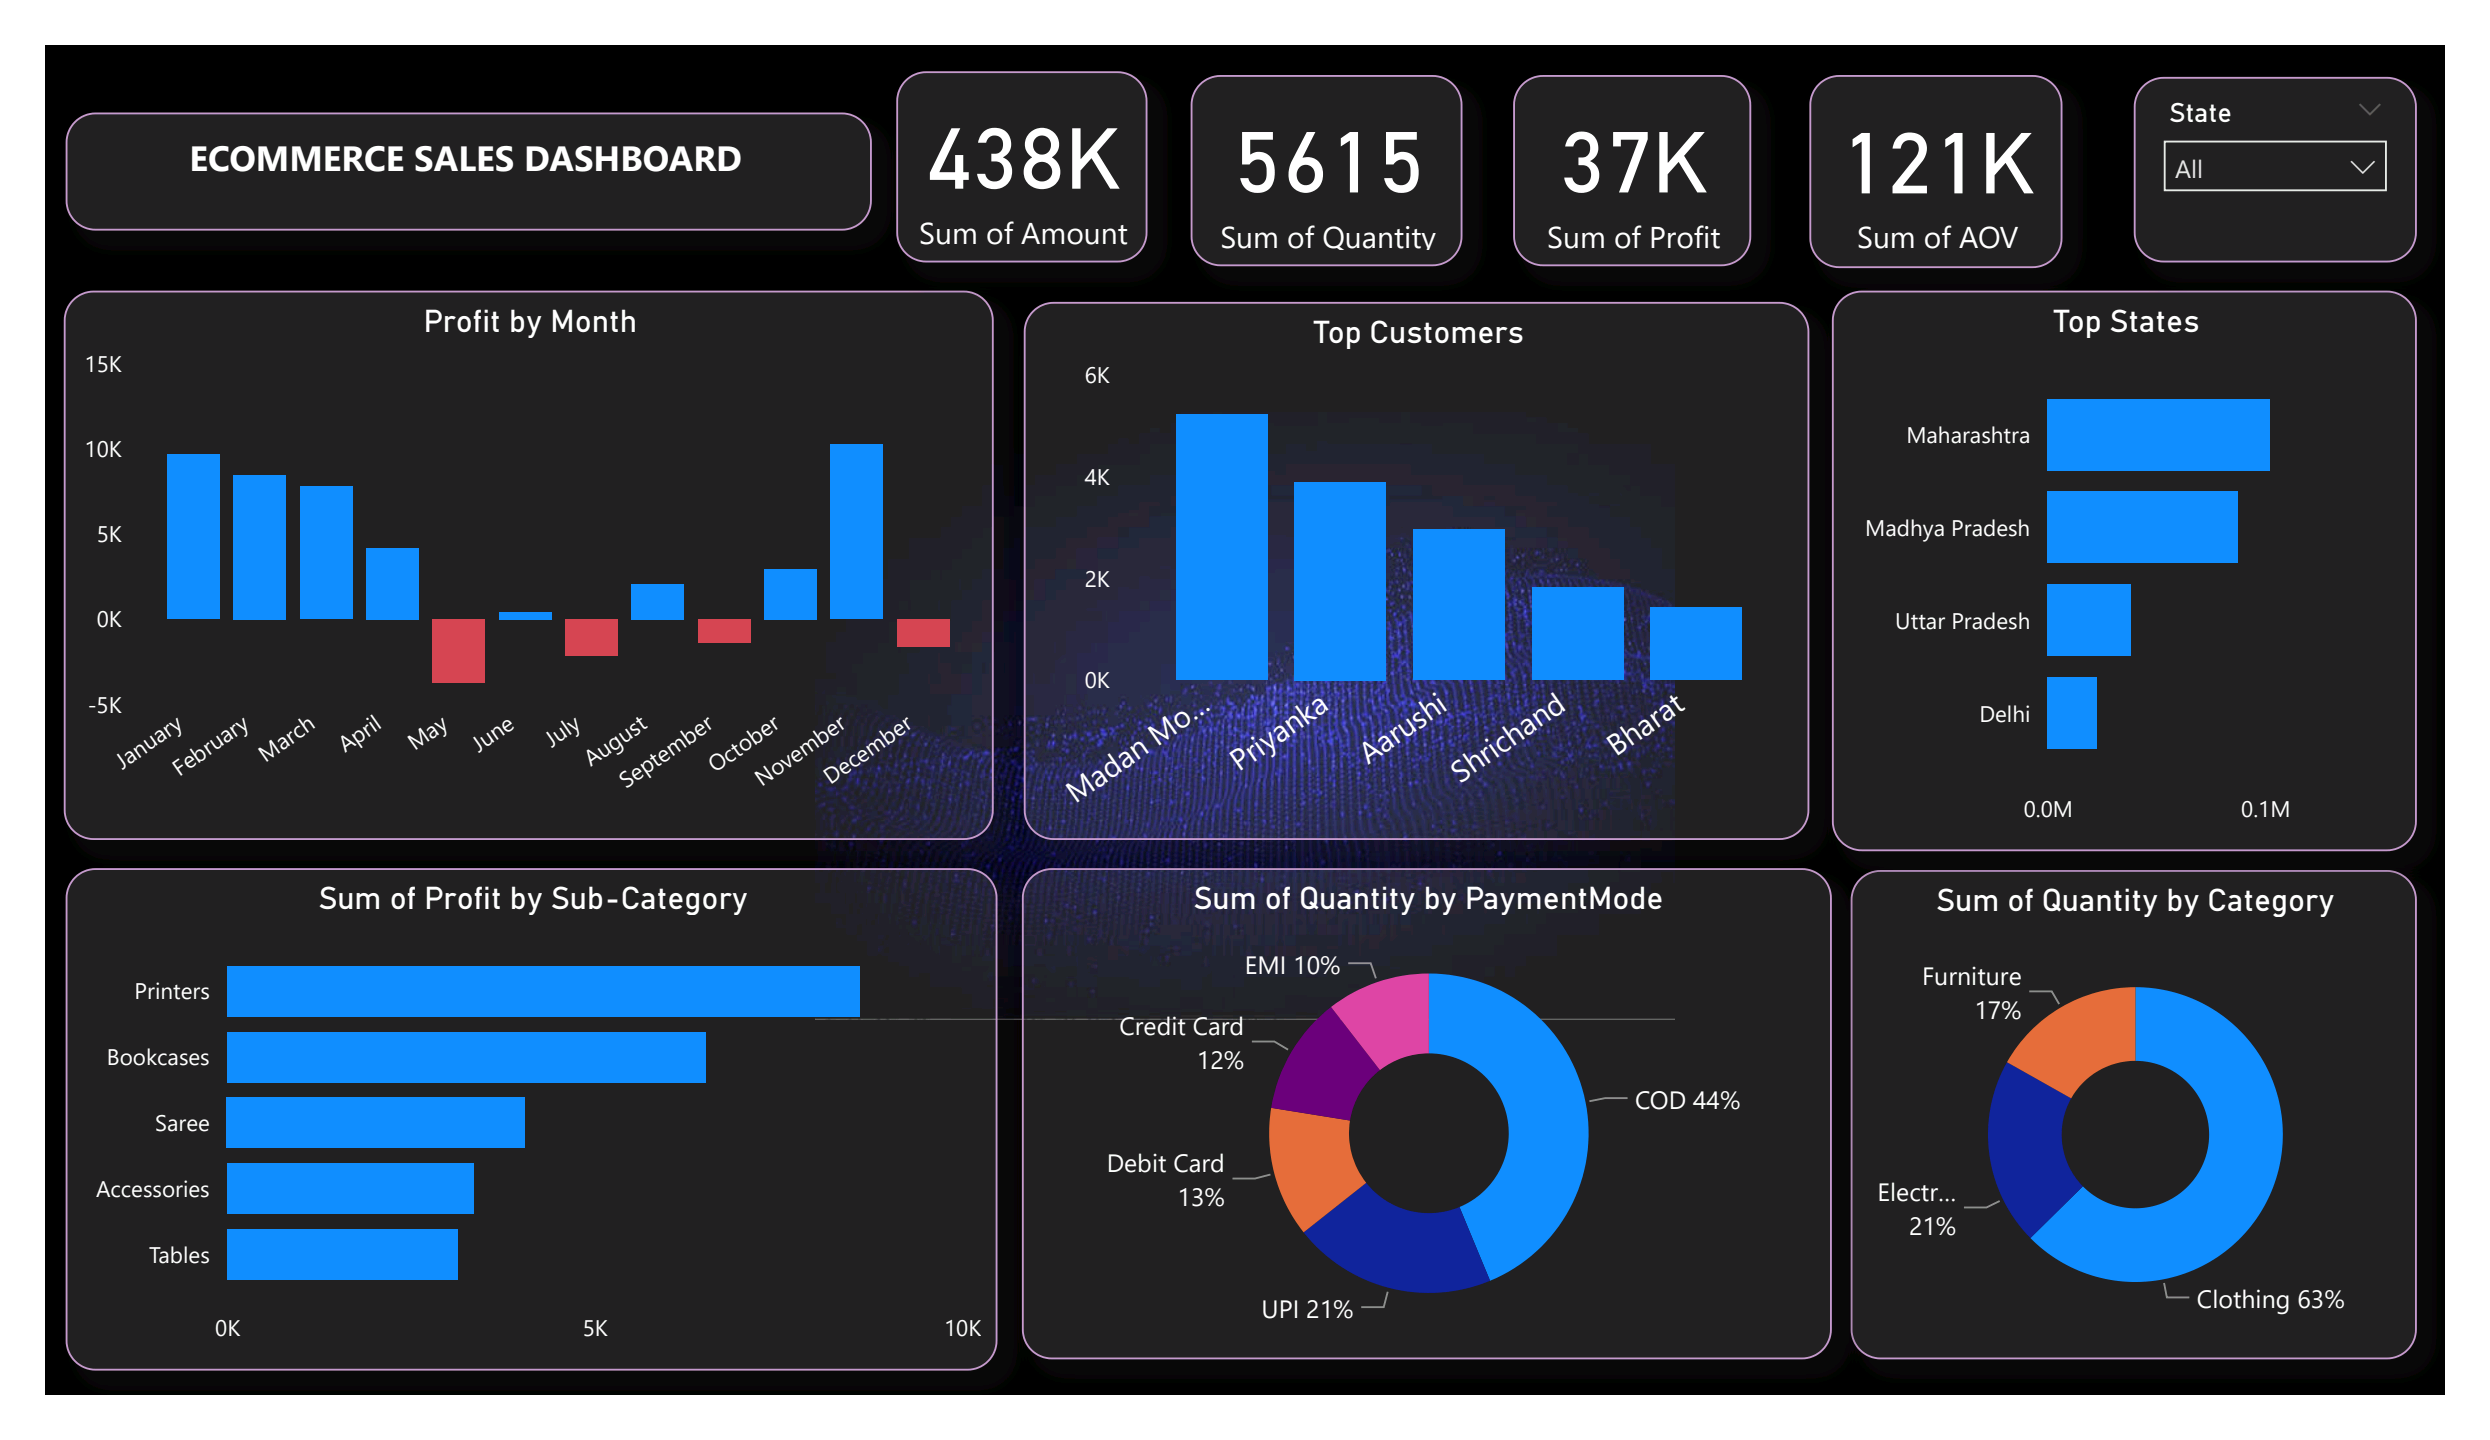

What the dashboard file says about the page in this screenshot:
{"tool":"powerbi","page":{"name":"Page 1","canvas":[1280,720],"ordinal":0},"visuals":[{"type":"textbox","box":[11.5,35.9,429.7,63.2],"z":0},{"type":"columnChart","title":"Profit by Month","fields":{"Y":["Sum(Details.Profit)"],"Category":["Orders.Order Date.Variation.Date Hierarchy.Month"]},"box":[10.1,130.8,495.8,293.1],"z":1000},{"type":"clusteredBarChart","fields":{"Category":["Details.Sub-Category"],"Y":["Sum(Details.Profit)"]},"box":[10.6,439.2,497.7,267.4],"z":2000},{"type":"donutChart","fields":{"Category":["Details.Category"],"Y":["Sum(Details.Quantity)"]},"box":[962.8,439.7,301.8,261.5],"z":3000},{"type":"donutChart","fields":{"Category":["Details.PaymentMode"],"Y":["Sum(Details.Quantity)"]},"box":[520.7,439.2,432.1,262.1],"z":4000},{"type":"card","fields":{"Values":["Sum(Details.Amount)"]},"box":[454.1,14.4,133.6,102],"z":5000},{"type":"card","fields":{"Values":["Sum(Details.Quantity)"]},"box":[610.7,15.8,145.1,102],"z":6000},{"type":"card","fields":{"Values":["Sum(Details.Profit)"]},"box":[783.2,15.8,126.5,102],"z":7000},{"type":"card","fields":{"Values":["Sum(Details.AOV)"]},"box":[941.2,15.8,135.1,103.5],"z":8000},{"type":"columnChart","title":"Top Customers","fields":{"Category":["Orders.CustomerName"],"Y":["Sum(Details.Amount)"]},"box":[521.6,136.5,419.6,287.4],"z":9000},{"type":"barChart","title":"Top States","fields":{"Category":["Orders.State"],"Y":["Sum(Details.Amount)"]},"box":[952.7,130.8,311.8,298.9],"z":10000},{"type":"slicer","fields":{"Values":["Orders.State"]},"box":[1114.3,17.5,150.8,98.4],"z":11000}]}

Visuals, with their boxes in screenshot pixels (x1, y1, x2, y2), scaled from the page's 1280x720 canvas onto the 2490x1440 screenshot:
textbox: [x1=22, y1=72, x2=858, y2=198]
"Profit by Month" columnChart: [x1=20, y1=262, x2=984, y2=848]
clusteredBarChart - Details.Sub-Category x Sum(Details.Profit): [x1=21, y1=878, x2=989, y2=1413]
donutChart - Details.Category x Sum(Details.Quantity): [x1=1873, y1=879, x2=2460, y2=1402]
donutChart - Details.PaymentMode x Sum(Details.Quantity): [x1=1013, y1=878, x2=1853, y2=1403]
card - Sum(Details.Amount): [x1=883, y1=29, x2=1143, y2=233]
card - Sum(Details.Quantity): [x1=1188, y1=32, x2=1470, y2=236]
card - Sum(Details.Profit): [x1=1524, y1=32, x2=1770, y2=236]
card - Sum(Details.AOV): [x1=1831, y1=32, x2=2094, y2=239]
"Top Customers" columnChart: [x1=1015, y1=273, x2=1831, y2=848]
"Top States" barChart: [x1=1853, y1=262, x2=2460, y2=859]
slicer - Orders.State: [x1=2168, y1=35, x2=2461, y2=232]
